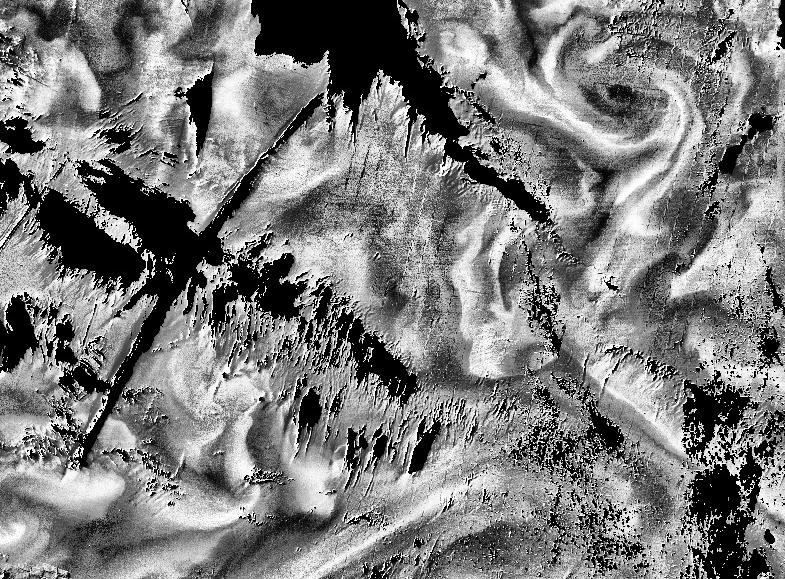CE: (554, 43, 704, 155)
